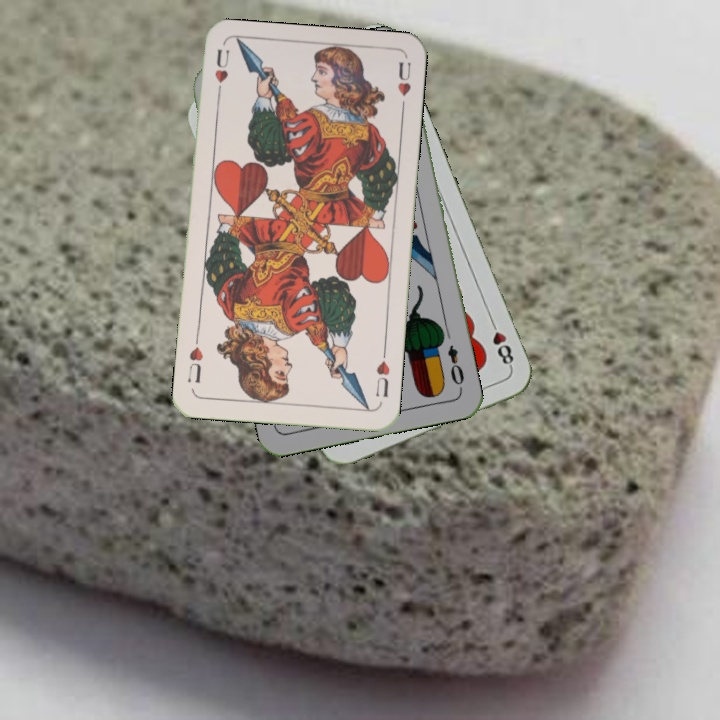EO: (443, 341, 467, 393)
H8: (485, 315, 517, 371)
HU: (210, 45, 232, 103), (371, 347, 393, 400)
